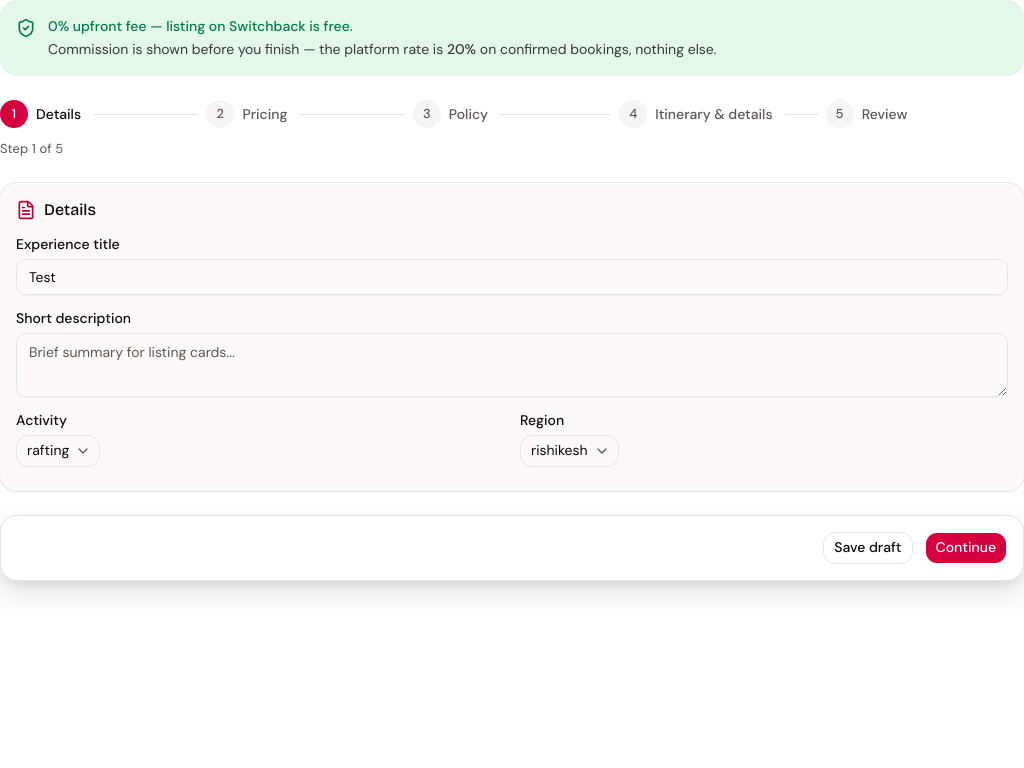
Test: Cancellation policy section (vendor form, issue #10) › shows the non_cancellable helper text (cannot cancel after payment; exceptional refunds)
Click the button "3".
click(427, 114)  # box [413,100,441,128]
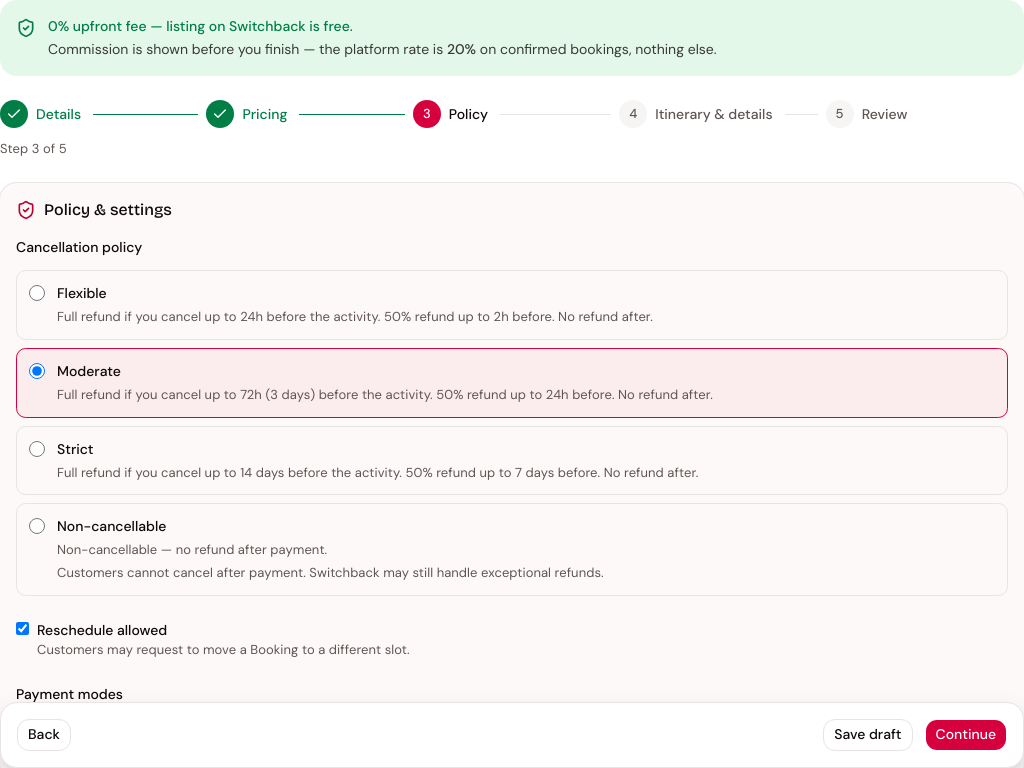
Check: the text "exceptional refunds" is shown, box [57,564,604,581]
